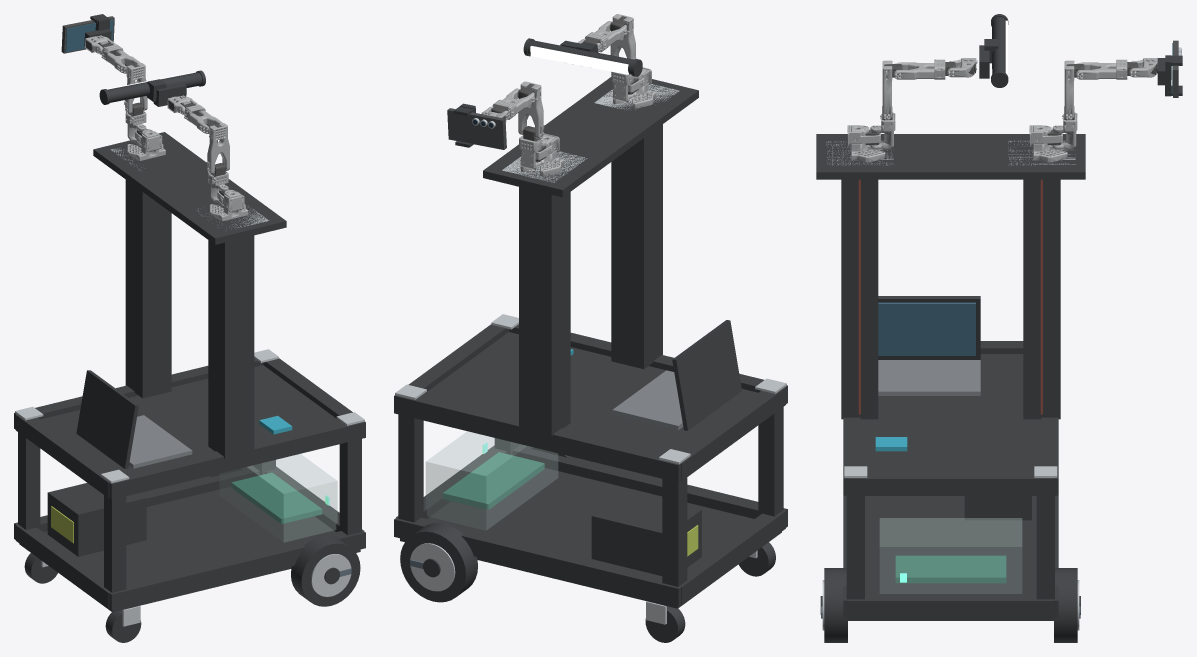
Rendered from take-one-tube.glb.
The picture shows the model from 3 angles, left to right: view 1: azimuth 30°, elevation 25°; view 2: azimuth 150°, elevation 25°; view 3: azimuth 270°, elevation 25°; orthographic projection. The views are drawn at different scales.
Visible parts, largest first — view 1: cart_box, upright_rear, upright_front, cart_work_deck, cart_deck, electronics_box, frame_side_0.25_0.49, frame_side_0.25_0.15, battery, laptop_lid, frame_end_-0.39_0.15, frame_end_-0.39_0.49 (+20 smaller); view 2: upright_front, cart_work_deck, upright_rear, cart_box, cart_deck, electronics_box, frame_side_-0.25_0.49, frame_side_-0.25_0.15, battery, laptop_lid, frame_side_0.25_0.15, frame_end_-0.39_0.49 (+21 smaller); view 3: cart_work_deck, cart_box, electronics_box, cart_deck, upright_front, upright_rear, laptop_screen, frame_end_0.39_0.15, frame_end_0.39_0.49, laptop_keyboard, electronics_board, corner_leg_-0.24_0.38 (+17 smaller).
Part boxes in pixels (x1=…): cart_box: x1=19, y1=486, x2=360, y2=612; upright_rear: x1=208, y1=235, x2=254, y2=458; upright_front: x1=125, y1=180, x2=171, y2=398; cart_work_deck: x1=40, y1=365, x2=338, y2=473; cart_deck: x1=93, y1=132, x2=286, y2=244; electronics_box: x1=219, y1=454, x2=337, y2=542; frame_side_0.25_0.49: x1=109, y1=421, x2=365, y2=499; frame_side_0.25_0.15: x1=105, y1=530, x2=365, y2=610; battery: x1=47, y1=483, x2=146, y2=556; laptop_lid: x1=76, y1=370, x2=138, y2=468; frame_end_-0.39_0.15: x1=15, y1=524, x2=110, y2=608; frame_end_-0.39_0.49: x1=15, y1=414, x2=110, y2=498; upright_front: x1=519, y1=187, x2=570, y2=436; cart_work_deck: x1=424, y1=332, x2=757, y2=453; upright_rear: x1=611, y1=124, x2=662, y2=369; cart_box: x1=400, y1=468, x2=781, y2=608; cart_deck: x1=483, y1=77, x2=698, y2=197; electronics_box: x1=426, y1=431, x2=557, y2=530; frame_side_-0.25_0.49: x1=394, y1=394, x2=686, y2=482; frame_side_-0.25_0.15: x1=394, y1=517, x2=687, y2=606; battery: x1=591, y1=491, x2=701, y2=575; laptop_lid: x1=672, y1=320, x2=741, y2=430; frame_side_0.25_0.15: x1=512, y1=444, x2=787, y2=527; frame_end_-0.39_0.49: x1=679, y1=387, x2=785, y2=480; cart_work_deck: x1=860, y1=354, x2=1041, y2=471; cart_box: x1=848, y1=496, x2=1053, y2=620; electronics_box: x1=880, y1=518, x2=1021, y2=593; cart_deck: x1=816, y1=134, x2=1085, y2=179; upright_front: x1=1023, y1=179, x2=1060, y2=419; upright_rear: x1=841, y1=179, x2=878, y2=419; laptop_screen: x1=878, y1=302, x2=975, y2=355; frame_end_0.39_0.15: x1=848, y1=593, x2=1053, y2=617; frame_end_0.39_0.49: x1=848, y1=471, x2=1053, y2=495; laptop_keyboard: x1=878, y1=360, x2=980, y2=395; electronics_board: x1=895, y1=555, x2=1006, y2=583; corner_leg_-0.24_0.38: x1=1036, y1=495, x2=1054, y2=599.
Bounding box in the file's own units: 0.824 × 1.52 × 0.9254.
